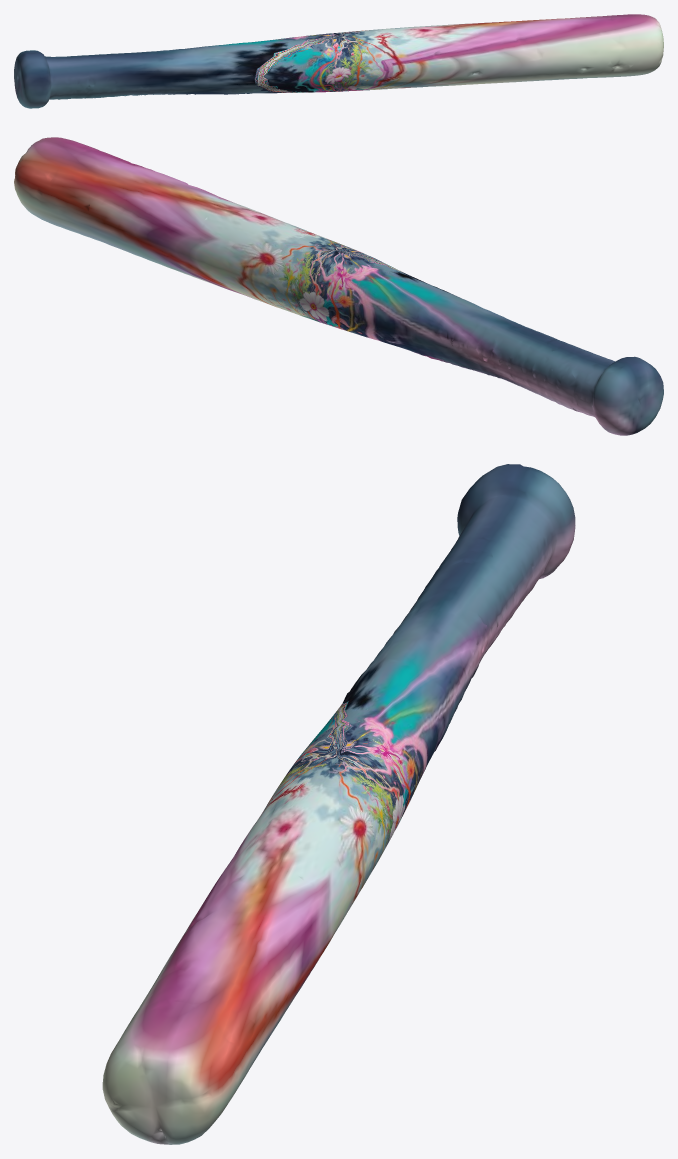
File: si_nmah_the-peace-keeper-baseball-bat.glb
3 views of the same model, one above another, from view 1: azimuth 30°, elevation 25°; view 2: azimuth 150°, elevation 25°; view 3: azimuth 270°, elevation 25° (orthographic). The views are drawn at different scales.
Parts seen in each view (by area): view 1: A; view 2: A; view 3: A.
Boxes of the visible parts, bbox=[...] form: A: bbox=[14, 14, 663, 108]; A: bbox=[14, 137, 663, 435]; A: bbox=[102, 464, 575, 1144].
Size of the model in its own units: 2 by 0.2821 by 0.7346.
Materials: 1 (1 with a texture image).
